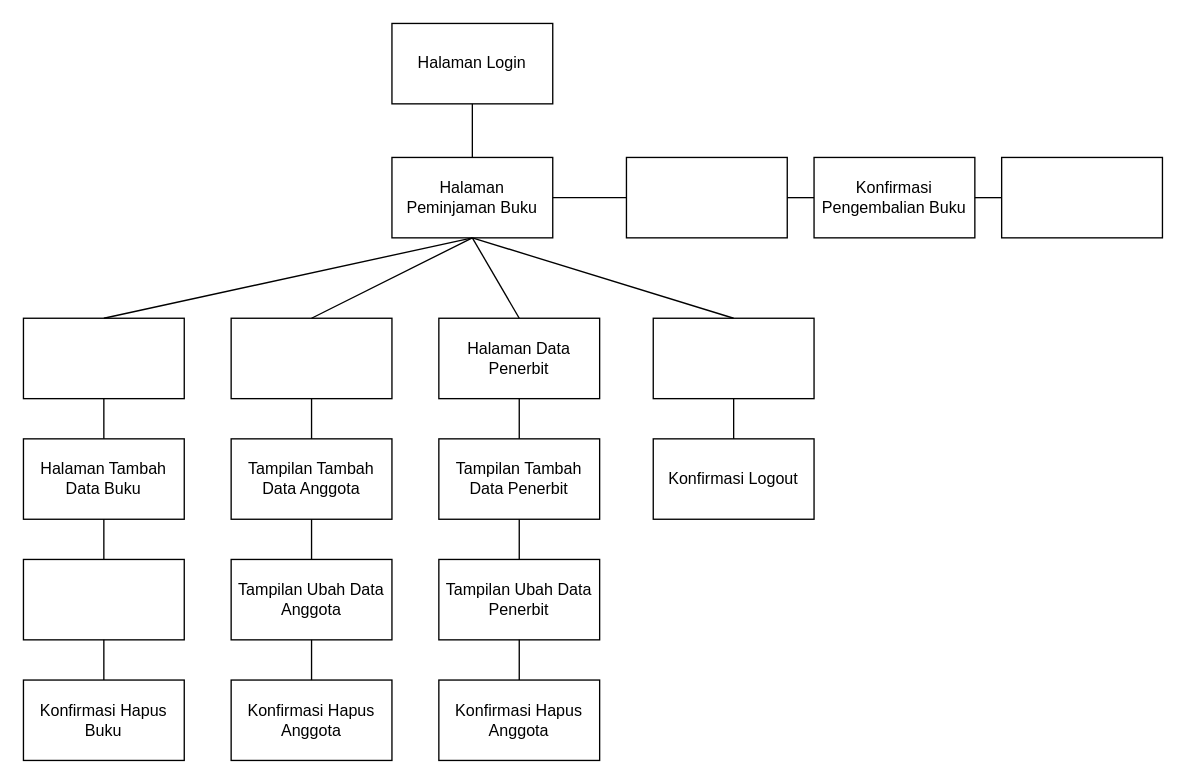
Image size: 1186x784. Some labels were removed from this diagram. Here are the shapes that lost their labels. From the top down, the box of each, then its label:
(625, 156, 787, 238): Halaman Tambah Data Peminjaman
(1000, 156, 1162, 238): Konfirmasi Hapus Data Peminjaman
(22, 317, 184, 399): Halaman Data Buku
(230, 317, 392, 399): Halaman Data Anggota
(652, 317, 814, 399): Logout
(22, 558, 184, 640): Halaman Tambah Ubah Data Buku
